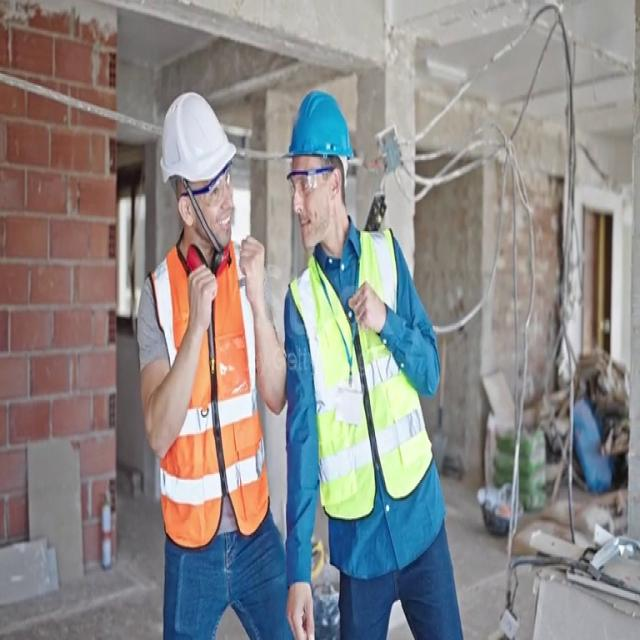capacete: (143, 80, 242, 196), (274, 81, 374, 178)
